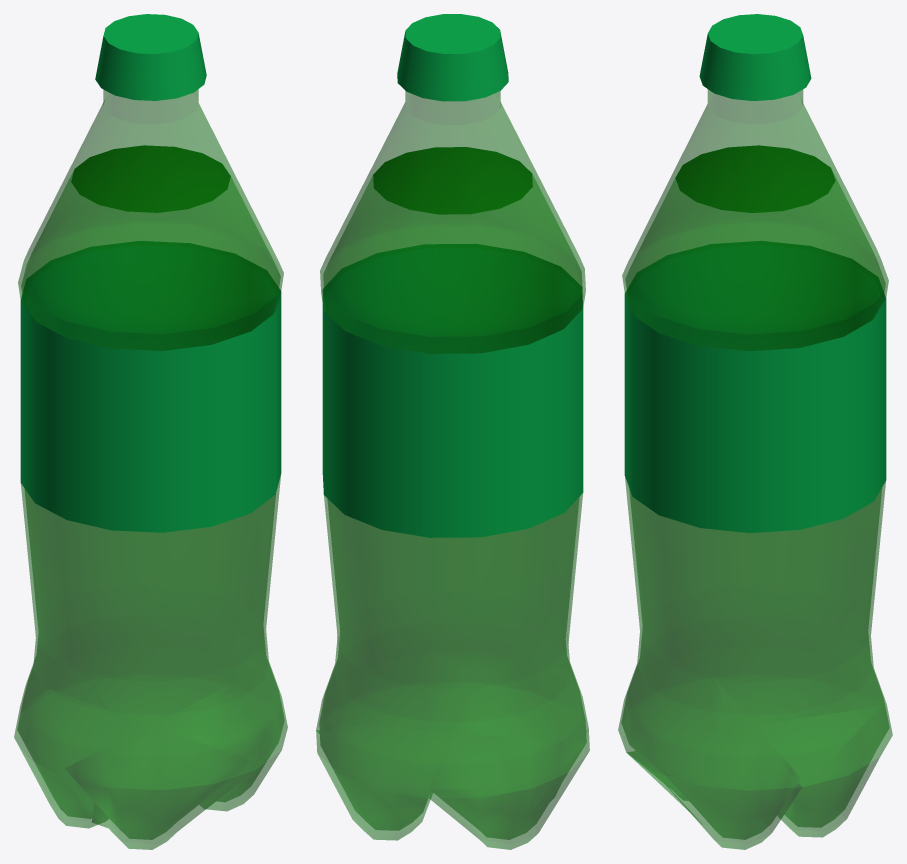
Rendered from refresco_old.fbx.
3 views of the same model, side by side, from view 1: azimuth 30°, elevation 25°; view 2: azimuth 150°, elevation 25°; view 3: azimuth 270°, elevation 25° (orthographic).
Parts seen in each view (by area): view 1: sprite7; view 2: sprite7; view 3: sprite7.
Boxes of the visible parts, box(x1,y1,x2,y2) form: sprite7: box(14, 14, 287, 849); sprite7: box(316, 14, 589, 849); sprite7: box(618, 14, 892, 849).
Bounding box in the file's own units: 0.2015 × 0.6282 × 0.2015.
3 materials, 1 textured.
